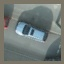car: (14, 15, 48, 46)
